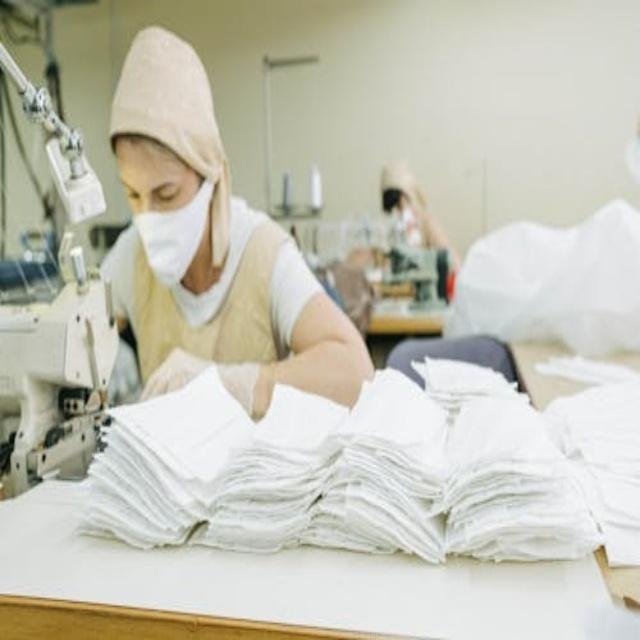Mascara: (132, 175, 220, 292)
Sin_gafas: (120, 167, 188, 204)
